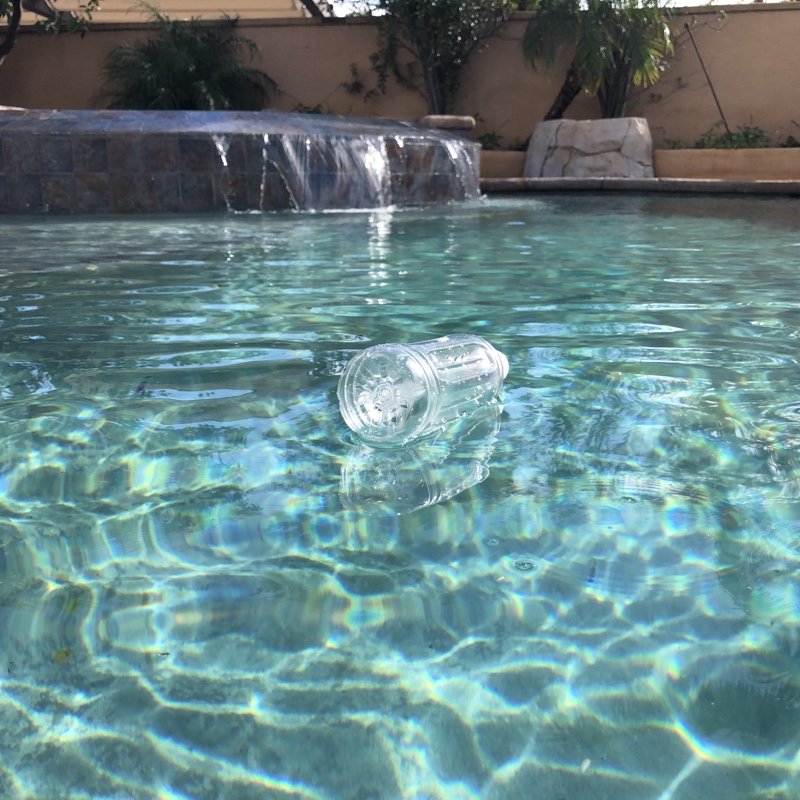Plastic Bottle: (332, 324, 513, 450)
